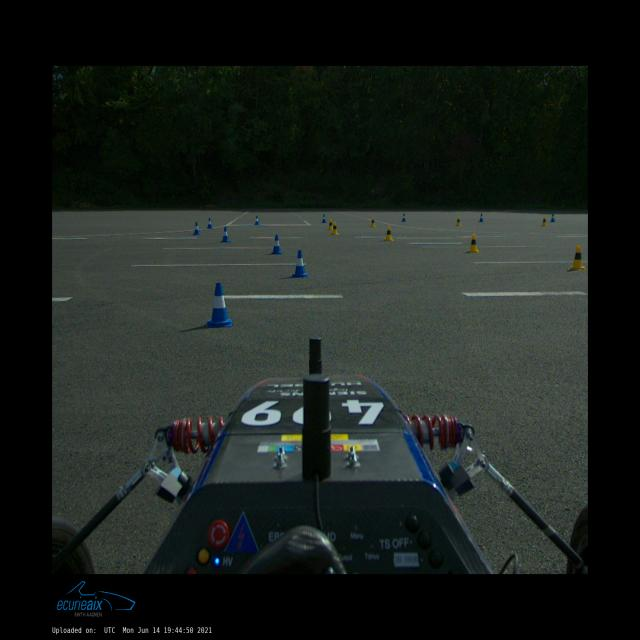blue_cone: (206, 283, 233, 327), (291, 250, 309, 278), (270, 234, 283, 254), (220, 227, 230, 242), (193, 222, 201, 234), (206, 218, 213, 229), (254, 215, 260, 225), (321, 214, 327, 223), (550, 213, 555, 222), (479, 214, 484, 222), (402, 213, 406, 222)
yellow_cone: (569, 245, 585, 270), (467, 234, 480, 253), (384, 226, 394, 241), (332, 222, 339, 234), (541, 216, 548, 226), (455, 216, 462, 226), (370, 217, 376, 227), (328, 218, 332, 230)
